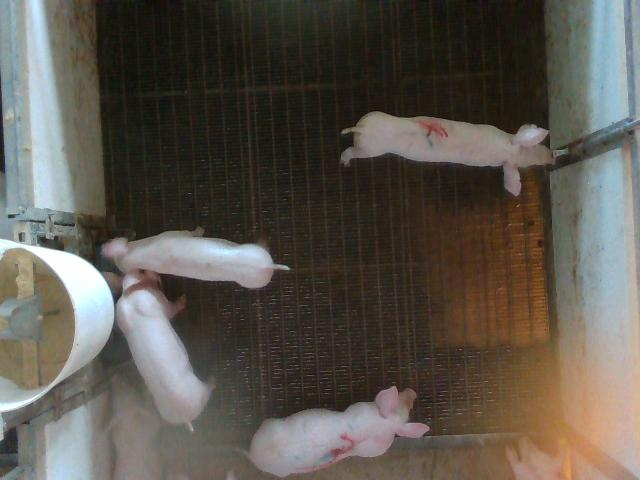pig-3: (249, 386, 429, 476)
pig-4: (341, 111, 554, 194)
